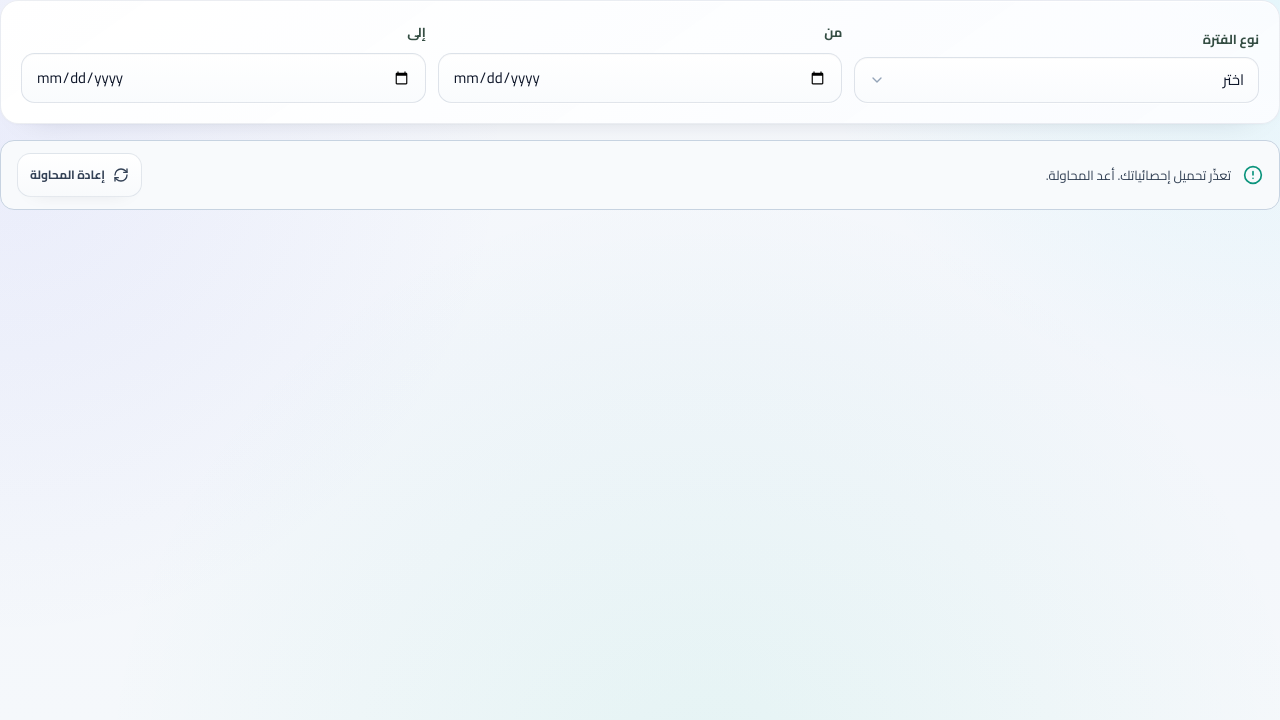
Scenario: provides recovery on the agent personal statistics view too
This screenshot has width=1280, height=720.
expect the text "تعذّر تحميل إحصائياتك. أعد المحاولة." is shown: met, box [1046,163,1231,187]
expect the text "لا توجد إحصائيات مسجّلة لهذه الفترة" is not shown: met
What coordinates should you click on to do the following:
click the button "إعادة المحاولة"
I would click on:
 (79, 175)
Its box is [17,153,142,197].
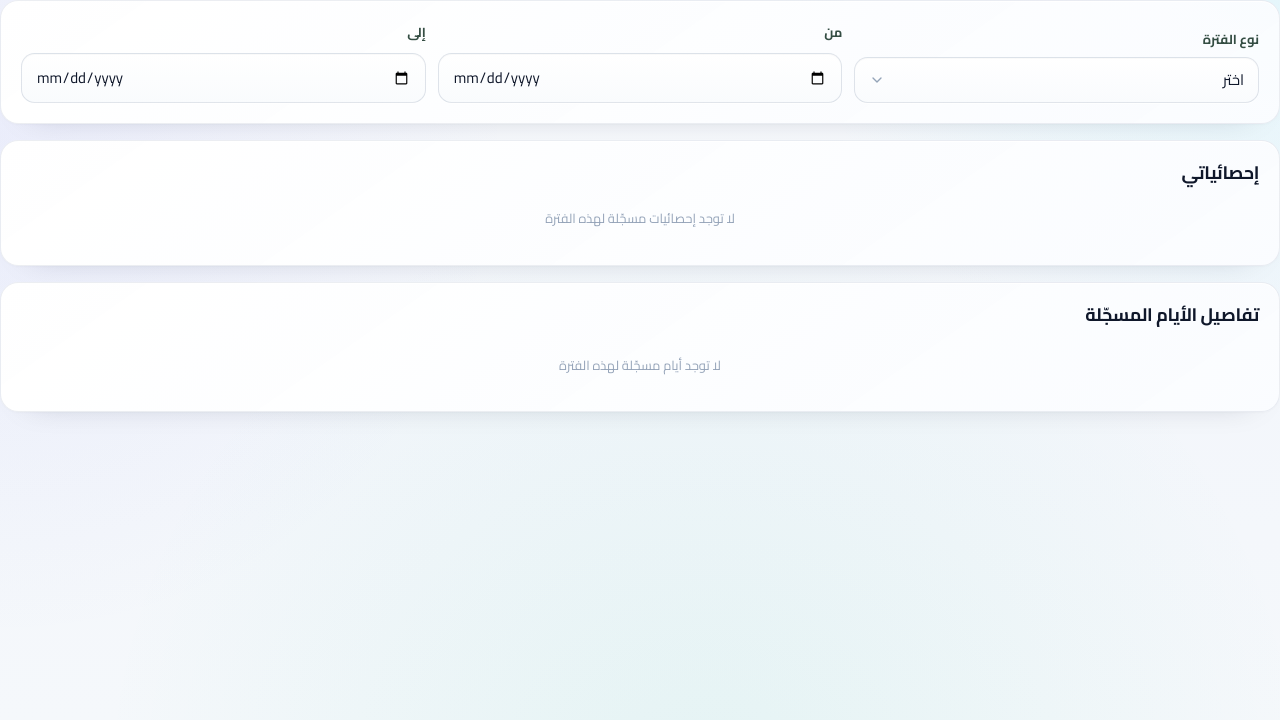
expect the text "لا توجد إحصائيات مسجّلة لهذه الفترة" is shown: met, box [545,206,735,230]
